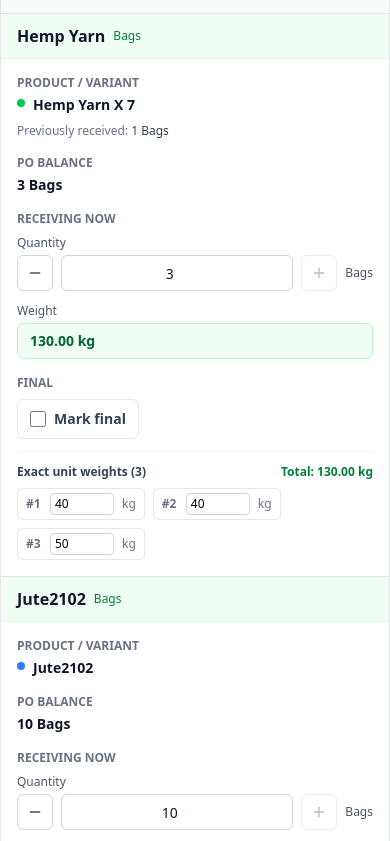
Test case: GRN receiving worklist › presents the selected PO and preserves variant and standard receipt controls
(page scrolled)
Expected: the text "Hemp Yarn X 7" is shown, [33,95,135,115]
Expected: the text "Jute2102" is shown 2 times, [17,587,86,611]; [33,658,93,678]
Click the checkbox. click: (38, 419)
box: [30,411,46,427]
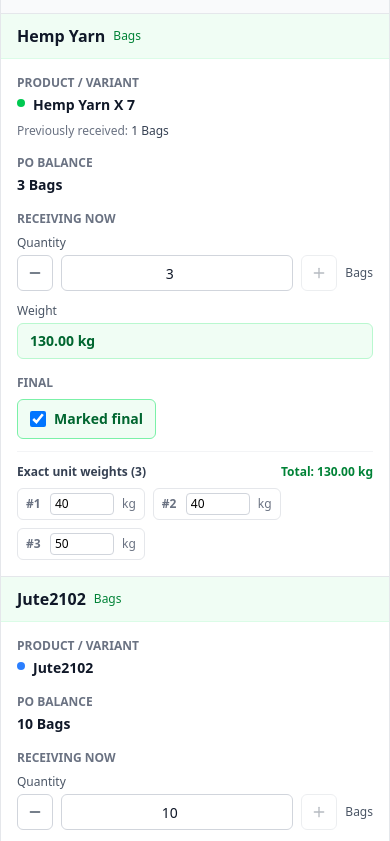
Expected: the text "Marked final" is shown, [54,409,143,429]
